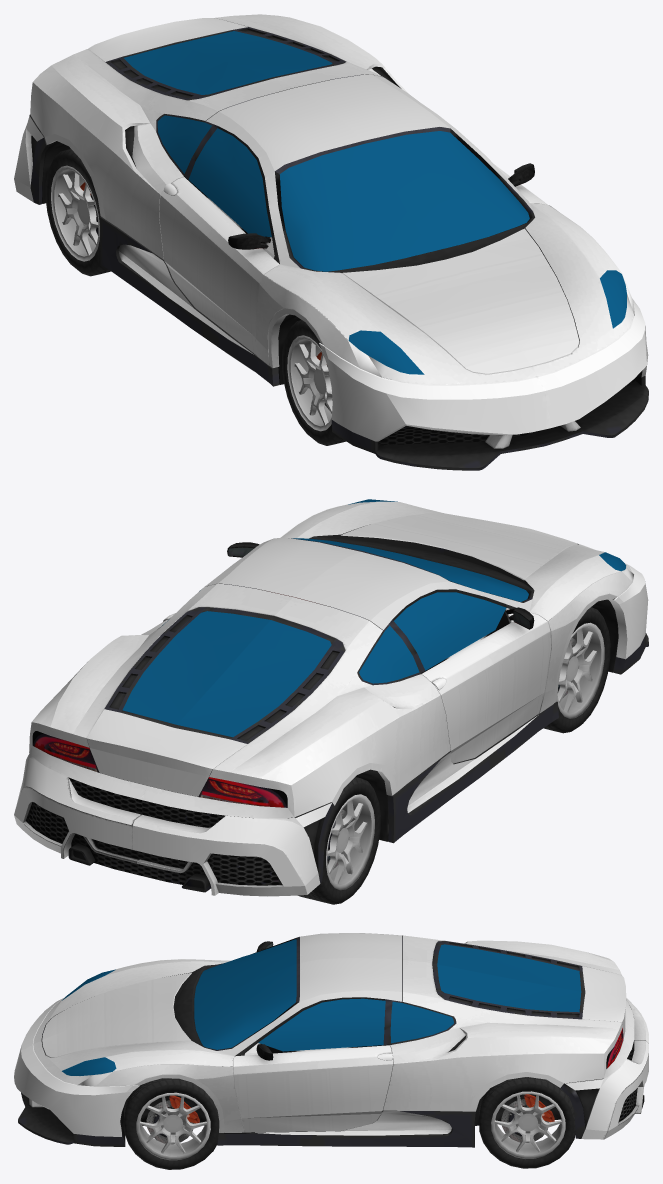
Rendered from Car15.fbx.
The picture shows the model from 3 angles, top to bottom: view 1: azimuth 30°, elevation 25°; view 2: azimuth 150°, elevation 25°; view 3: azimuth 270°, elevation 25°; orthographic projection. The views are drawn at different scales.
Parts seen in each view (by area): view 1: Body, BumperFront, Front_Glass_, Hood, Roof, DC3_Sport_4_Door_FR, Back_Glass_, DC3_Sport_4_Sidepanel_R_3, DC3_Sport_4_Glass_FR, Trunk, Wing_1, Metal (+7 smaller); view 2: Body, BumperBack, Back_Glass_, Trunk, Roof, DC3_Sport_4_Door_FR, Hood, DC3_Sport_4_Sidepanel_R_3, DC3_Sport_4_Glass_FR, Metal, Metal_1, Wing_1 (+7 smaller); view 3: Body, DC3_Sport_4_Door_FR_1, Roof, Front_Glass_, Hood, BumperFront, Back_Glass_, DC3_Sport_4_Sidepanel_R_3__1_, BumperBack, DC3_Sport_4_Glass_FR_1, Trunk, Tire_2 (+8 smaller).
Part boxes in pixels (left/top/right/bottom): Body: left=30, top=14, right=634, bottom=384; BumperFront: left=319, top=298, right=648, bottom=470; Front_Glass_: left=279, top=131, right=529, bottom=271; Hood: left=342, top=228, right=579, bottom=374; Roof: left=192, top=74, right=506, bottom=236; DC3_Sport_4_Door_FR: left=159, top=176, right=279, bottom=354; Back_Glass_: left=124, top=31, right=332, bottom=94; DC3_Sport_4_Sidepanel_R_3: left=100, top=216, right=279, bottom=386; DC3_Sport_4_Glass_FR: left=188, top=128, right=271, bottom=237; Trunk: left=88, top=18, right=345, bottom=100; Wing_1: left=256, top=275, right=381, bottom=377; Metal: left=51, top=165, right=99, bottom=261; Body: left=29, top=501, right=632, bottom=841; BumperBack: left=14, top=753, right=334, bottom=896; Back_Glass_: left=122, top=611, right=331, bottom=737; Trunk: left=87, top=607, right=345, bottom=796; Roof: left=205, top=537, right=506, bottom=655; DC3_Sport_4_Door_FR: left=421, top=608, right=551, bottom=763; Hood: left=341, top=513, right=578, bottom=580; DC3_Sport_4_Sidepanel_R_3: left=387, top=701, right=558, bottom=843; DC3_Sport_4_Glass_FR: left=394, top=592, right=506, bottom=670; Metal: left=326, top=794, right=374, bottom=890; Metal_1: left=557, top=622, right=604, bottom=718; Wing_1: left=539, top=568, right=633, bottom=713; Body: left=33, top=935, right=634, bottom=1143; DC3_Sport_4_Door_FR_1: left=233, top=1043, right=393, bottom=1132; Roof: left=253, top=933, right=402, bottom=1042; Front_Glass_: left=194, top=939, right=296, bottom=1049; Hood: left=42, top=973, right=191, bottom=1057; BumperFront: left=14, top=998, right=140, bottom=1146; Back_Glass_: left=437, top=944, right=581, bottom=1012; DC3_Sport_4_Sidepanel_R_3__1_: left=217, top=1110, right=475, bottom=1147; BumperBack: left=560, top=998, right=648, bottom=1139; DC3_Sport_4_Glass_FR_1: left=258, top=998, right=385, bottom=1051; Trunk: left=432, top=941, right=626, bottom=1039; Tire_2: left=479, top=1077, right=575, bottom=1168.
Size of the model in its own units: 323 by 217 by 768.
